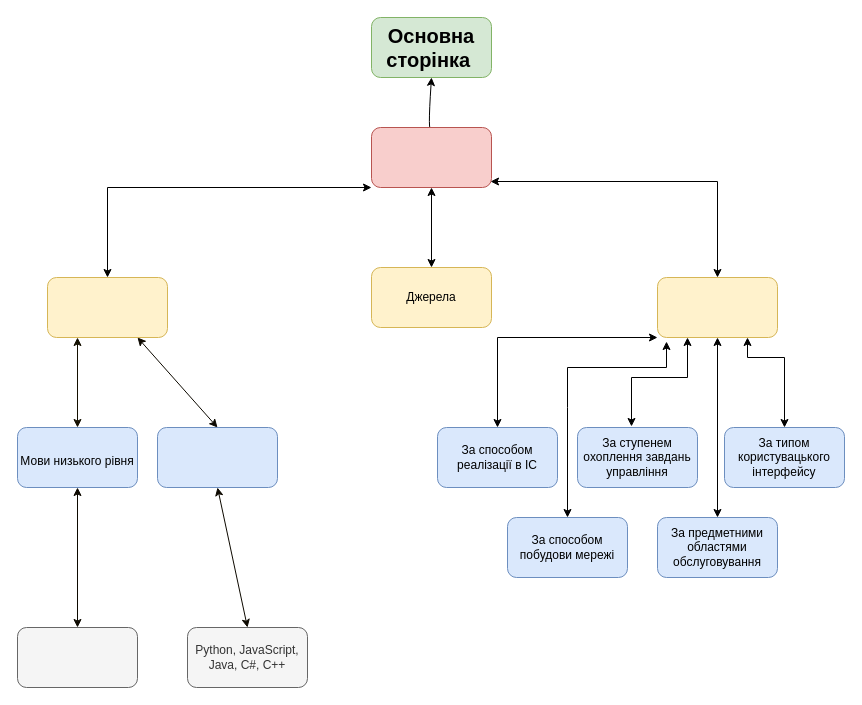
The diagram is 862 pixels wide and 705 high, and some of its shapes have lost their labels. Here are the shapes that lost their labels. From the top down, the centre of each, then its label:
At point 431,157: "Меню".
At point 107,307: "Програмування".
At point 717,307: "Інформаційні технології".
At point 217,457: "Мови високого рівня".
At point 77,657: "C, Pascal, Basic".
